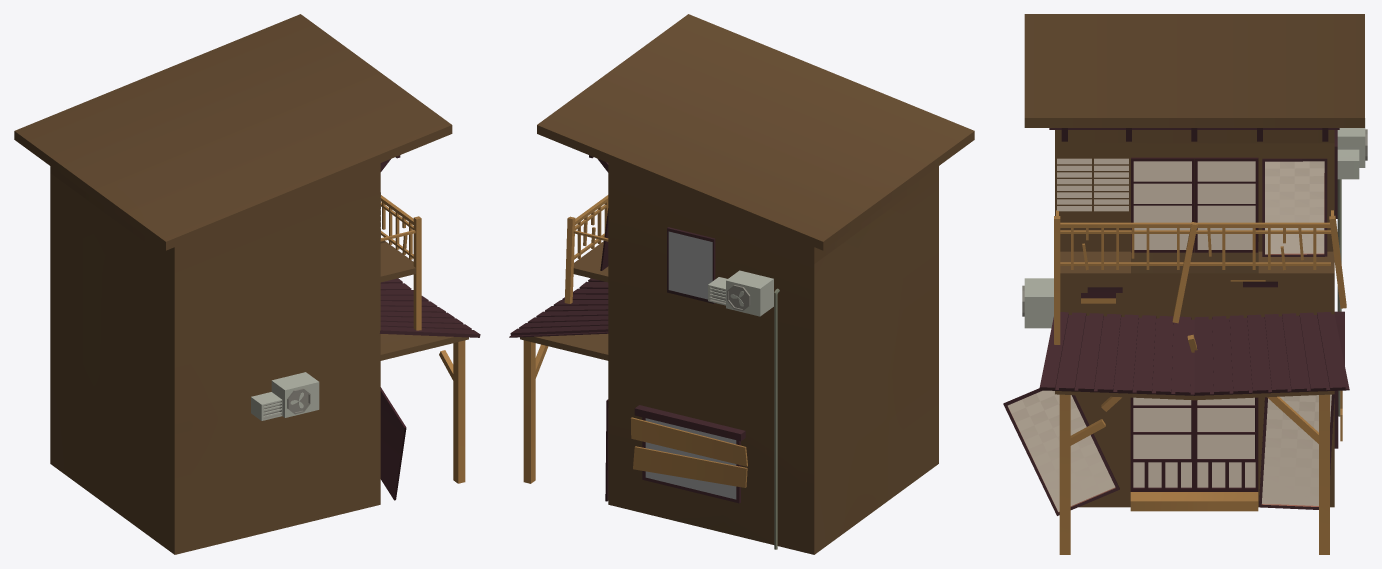
The model's file is Apt_0.fbx.
3 renders of one model, left to right at view 1: azimuth 30°, elevation 25°; view 2: azimuth 150°, elevation 25°; view 3: azimuth 270°, elevation 25°, orthographic. The views are drawn at different scales.
Parts seen in each view (by area): view 1: polySurface1297, polySurface830, polySurface875, polySurface1254, polySurface1282, polySurface1257, polySurface1285; view 2: polySurface1297, polySurface830, polySurface1295, polySurface812, polySurface811, polySurface1292, polySurface1251, polySurface1243, polySurface810, polySurface817, polySurface1263; view 3: polySurface1297, polySurface830, polySurface875, polySurface1087, polySurface890, polySurface891, polySurface1088, polySurface892, polySurface863, polySurface842, polySurface1254, polySurface1251 (+12 smaller).
Part boxes in pixels (box(x1,y1,x2,y2)): polySurface1297: box(14, 14, 468, 554); polySurface830: box(379, 278, 480, 337); polySurface875: box(380, 387, 406, 500); polySurface1254: box(453, 340, 465, 483); polySurface1282: box(271, 372, 319, 417); polySurface1257: box(413, 216, 421, 330); polySurface1285: box(251, 392, 282, 420); polySurface1297: box(520, 14, 974, 554); polySurface830: box(509, 278, 608, 337); polySurface1295: box(667, 227, 715, 303); polySurface812: box(633, 446, 747, 487); polySurface811: box(630, 417, 747, 466); polySurface1292: box(642, 417, 740, 503); polySurface1251: box(523, 340, 535, 483); polySurface1243: box(726, 270, 773, 316); polySurface810: box(634, 405, 745, 441); polySurface817: box(774, 288, 779, 549); polySurface1263: box(564, 216, 575, 303); polySurface1297: box(1024, 14, 1364, 507); polySurface830: box(1039, 312, 1349, 395); polySurface875: box(1003, 388, 1119, 515); polySurface1087: box(1259, 391, 1334, 509); polySurface890: box(1130, 397, 1194, 491); polySurface891: box(1194, 397, 1258, 491); polySurface1088: box(1262, 158, 1327, 256); polySurface892: box(1195, 157, 1258, 252); polySurface863: box(1131, 157, 1194, 252); polySurface842: box(1130, 492, 1258, 511); polySurface1254: box(1059, 394, 1070, 554); polySurface1251: box(1319, 394, 1329, 554).
Bounding box in the file's own units: 54.92 × 61.52 × 48.1.
Materials: 3 (1 with a texture image).
